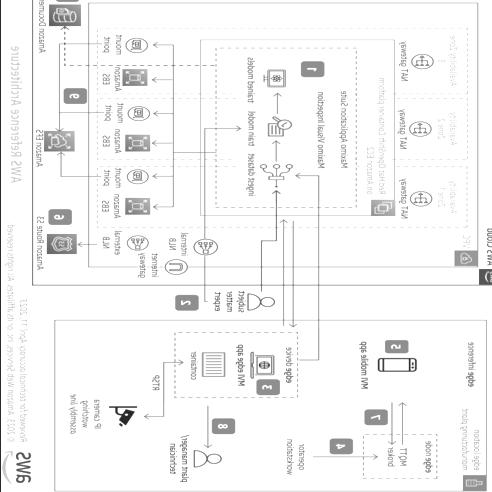actor: (98, 392, 150, 444), (176, 428, 226, 480), (226, 285, 278, 326), (264, 428, 290, 480)
compute: (365, 347, 426, 388), (375, 424, 416, 484), (190, 342, 232, 393), (241, 342, 282, 393), (257, 157, 298, 188), (257, 111, 298, 142), (257, 65, 298, 96)
data_flow: (206, 255, 247, 296), (308, 188, 318, 342), (288, 188, 298, 342), (272, 185, 282, 313), (136, 183, 214, 193), (136, 101, 214, 111), (136, 40, 214, 50), (52, 50, 62, 111), (318, 449, 370, 459), (222, 392, 232, 444), (140, 413, 190, 423), (68, 239, 108, 249), (272, 137, 282, 157), (272, 91, 282, 111)
database_storage: (37, 122, 78, 172), (104, 193, 144, 224), (104, 111, 144, 142), (104, 65, 144, 96), (37, 0, 78, 29)
network_security: (37, 223, 78, 264), (396, 178, 436, 219), (396, 106, 436, 147), (396, 40, 436, 80), (104, 228, 144, 260), (180, 234, 222, 264), (140, 249, 180, 280), (104, 154, 144, 180), (104, 93, 144, 119), (104, 32, 144, 58)
trust_boundary: (32, 0, 492, 285), (78, 4, 477, 270), (50, 324, 485, 492), (196, 42, 390, 221), (62, 328, 473, 406), (222, 52, 365, 211), (83, 168, 441, 229), (83, 96, 441, 157), (83, 30, 441, 90), (242, 57, 344, 206), (163, 331, 290, 403), (357, 418, 434, 490)
